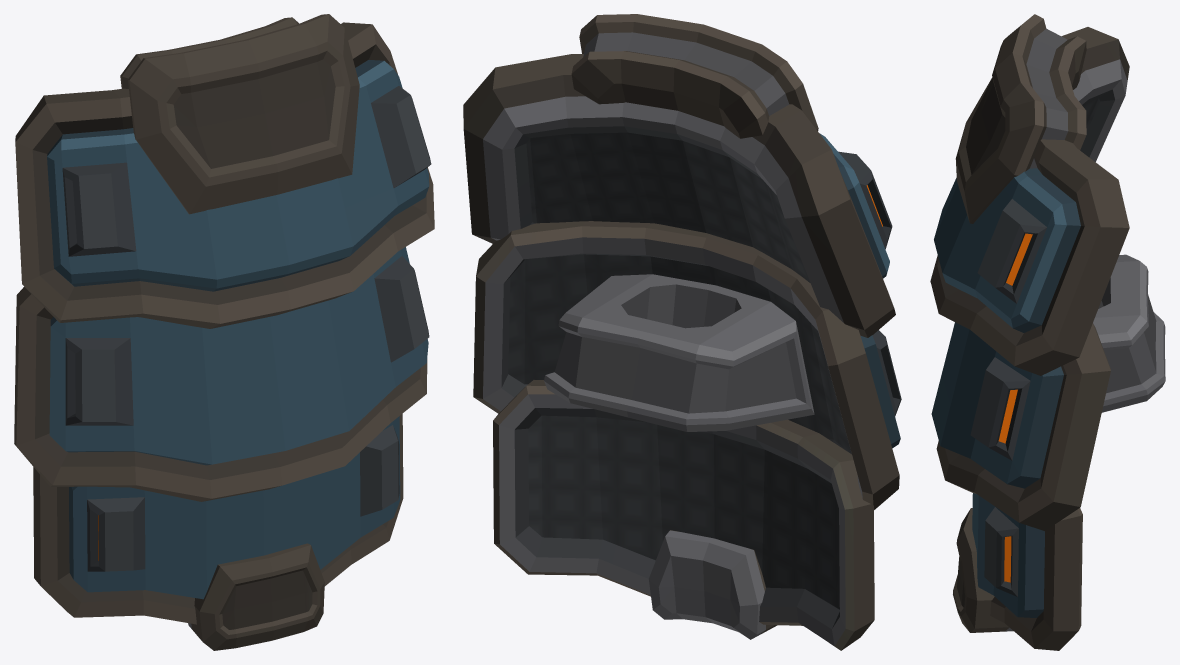
The model's file is SM_Mech_Arm_01_Armor_Shoulder_03.fbx.
The picture shows the model from 3 angles, left to right: view 1: azimuth 30°, elevation 25°; view 2: azimuth 150°, elevation 25°; view 3: azimuth 270°, elevation 25°; orthographic projection. The views are drawn at different scales.
Parts seen in each view (by area): view 1: SM_Mech_Arm_01_Armor_Shoulder_03; view 2: SM_Mech_Arm_01_Armor_Shoulder_03; view 3: SM_Mech_Arm_01_Armor_Shoulder_03.
Part boxes in pixels (x1,y1,x2,y2): SM_Mech_Arm_01_Armor_Shoulder_03: [14, 14, 434, 650]; SM_Mech_Arm_01_Armor_Shoulder_03: [463, 14, 901, 650]; SM_Mech_Arm_01_Armor_Shoulder_03: [930, 14, 1165, 650].
Bounding box in the file's own units: 107 × 143 × 54.32.
